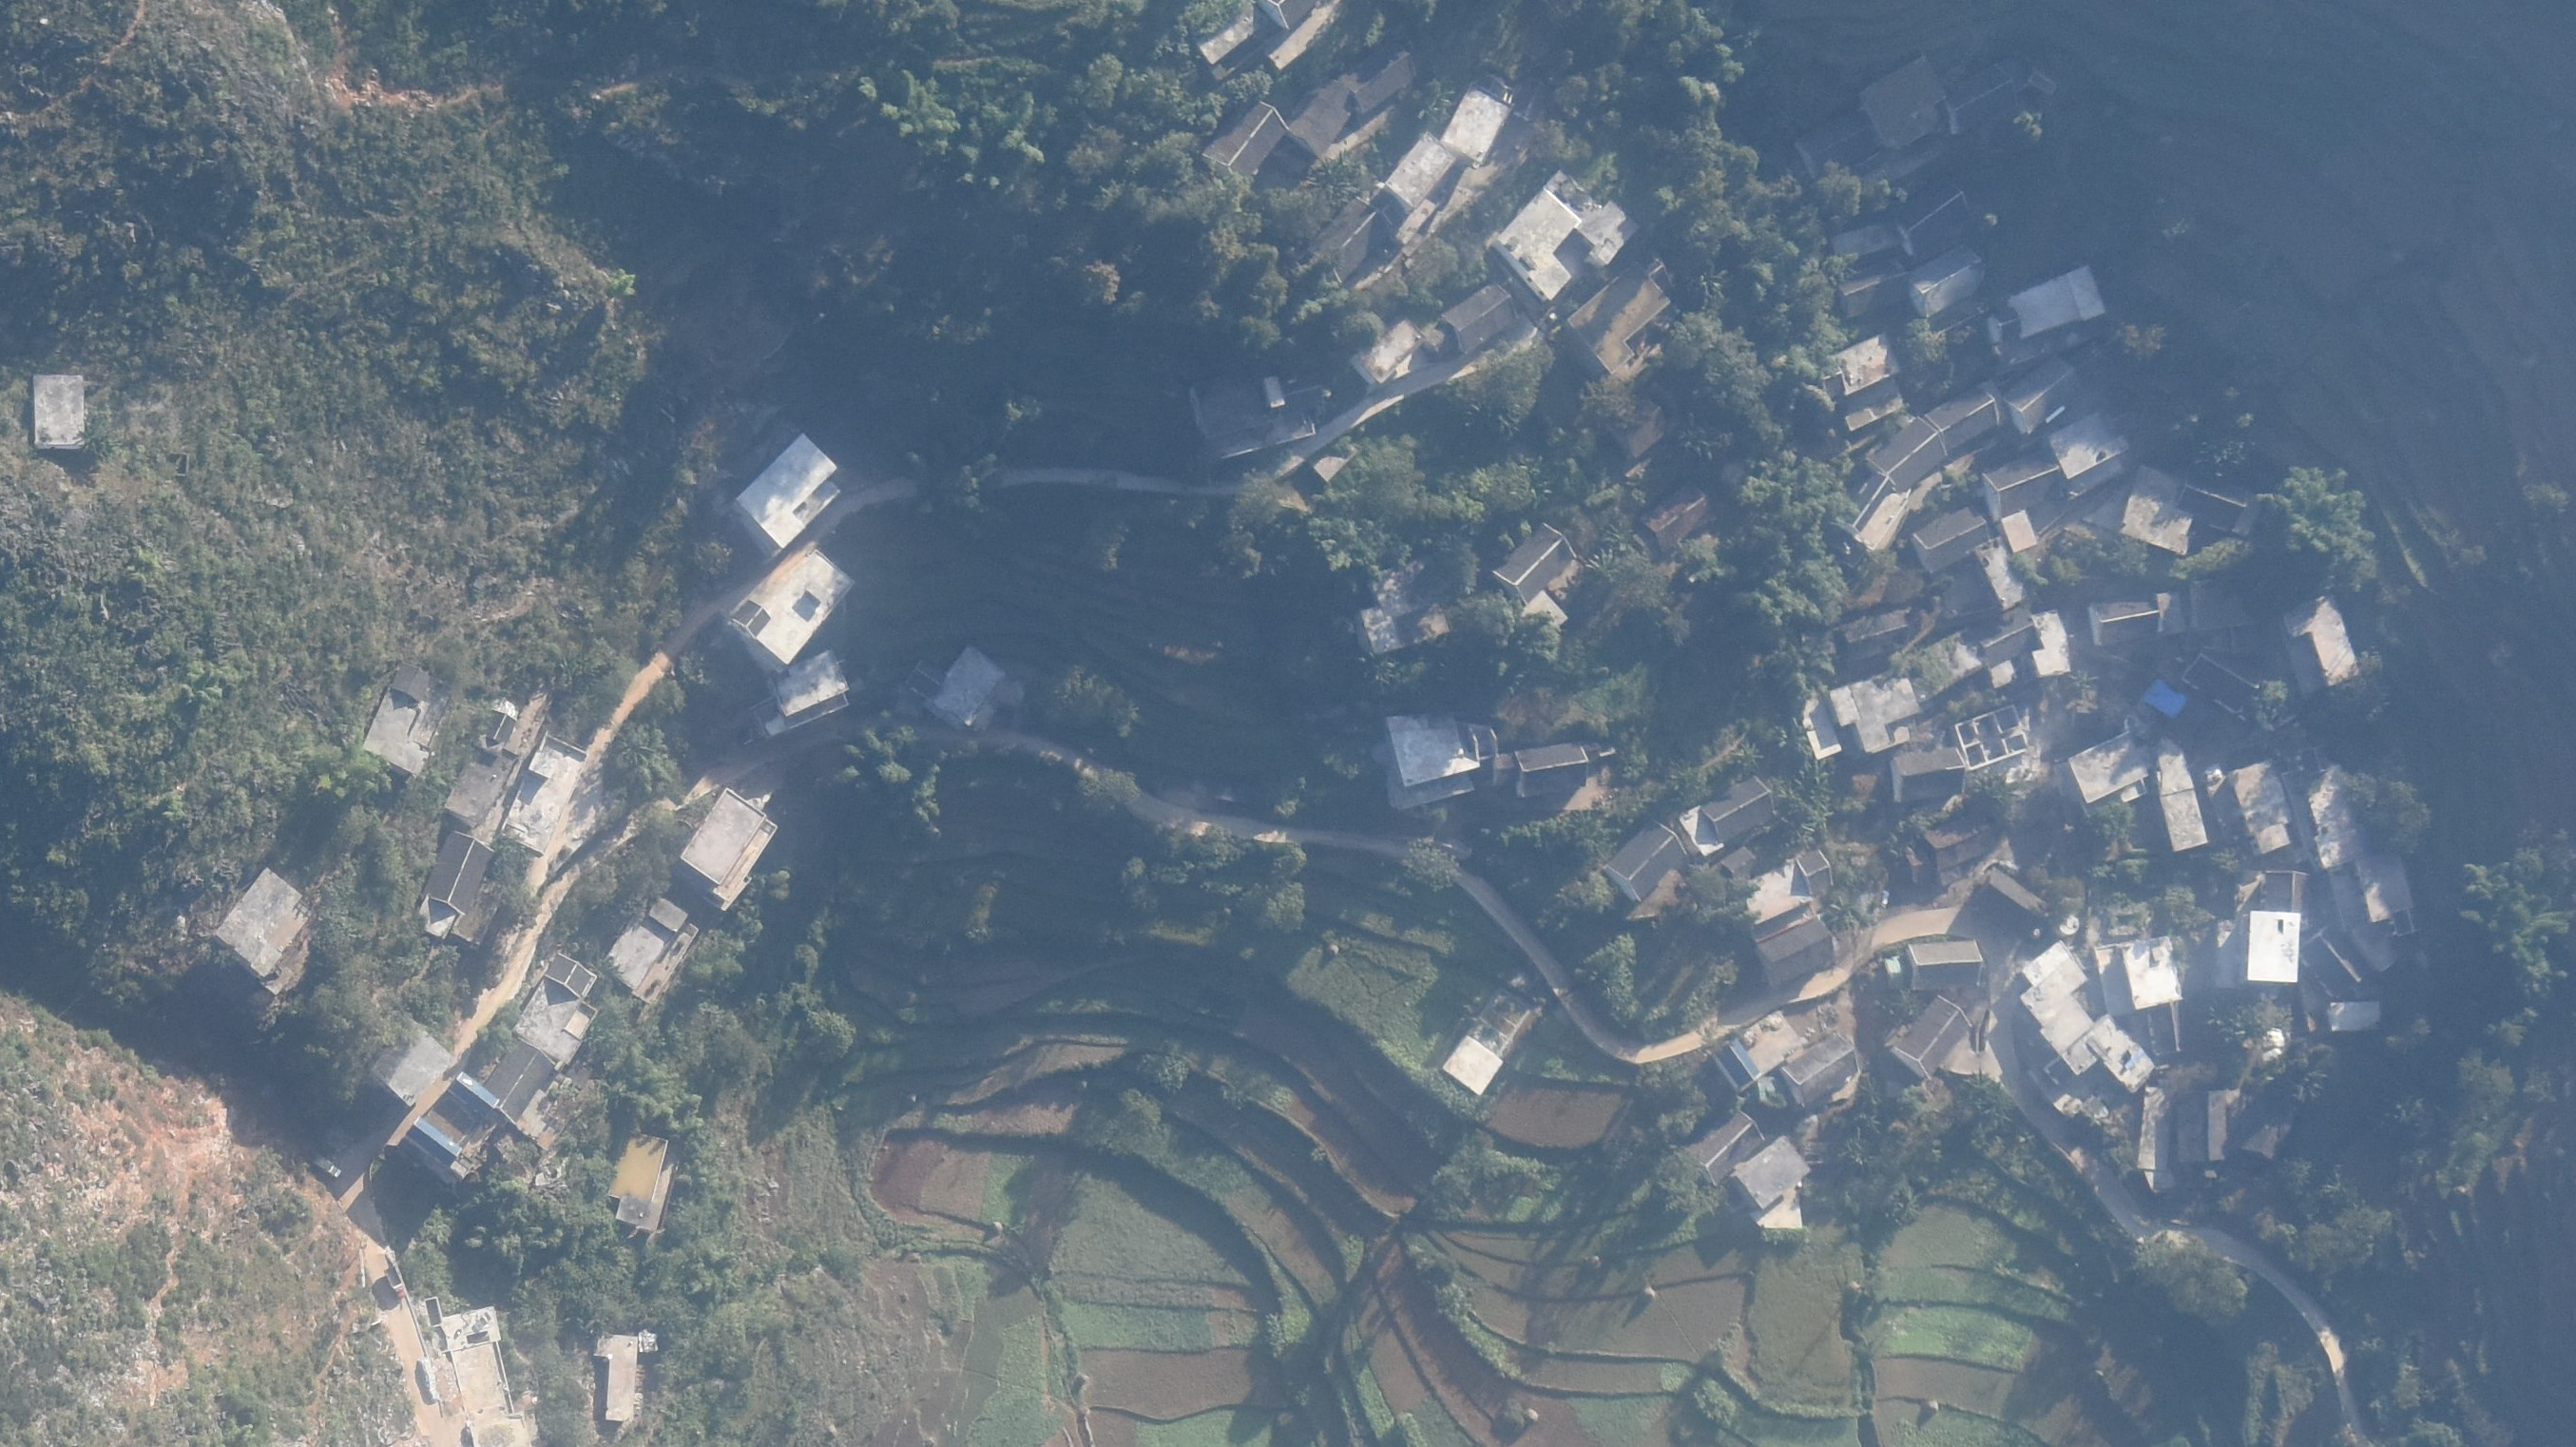building: (2020, 941, 2157, 1093), (1494, 169, 1640, 305), (2069, 712, 2207, 854), (727, 539, 866, 668), (422, 1302, 525, 1446), (1193, 357, 1315, 459), (214, 867, 312, 994), (680, 787, 777, 913), (1565, 260, 1670, 376), (735, 436, 837, 552), (736, 652, 866, 741), (1387, 710, 1498, 810), (502, 725, 586, 855), (603, 898, 698, 1006), (362, 666, 455, 776), (2285, 744, 2364, 869), (1989, 262, 2105, 346), (511, 955, 596, 1066), (2048, 405, 2140, 496), (447, 706, 517, 824), (905, 642, 1004, 725), (1359, 570, 1451, 659), (1858, 55, 1944, 148), (1307, 197, 1397, 282), (2279, 594, 2362, 687), (1832, 666, 1921, 751), (1736, 1134, 1810, 1231), (1202, 102, 1288, 183), (1496, 522, 1576, 609), (369, 1025, 456, 1105), (2093, 936, 2179, 1017), (1604, 821, 1685, 901), (2123, 464, 2195, 553), (1793, 109, 1882, 181), (1900, 627, 1985, 703), (609, 1130, 673, 1229), (483, 1034, 554, 1122), (1895, 995, 1970, 1078), (2228, 758, 2291, 852), (1939, 61, 2017, 136), (1864, 416, 1945, 489), (2006, 357, 2080, 433), (1907, 247, 1986, 318), (1382, 130, 1456, 205), (425, 833, 493, 913), (1753, 912, 1834, 979), (1814, 333, 1899, 396), (1702, 773, 1776, 847), (1285, 77, 1356, 152), (1445, 83, 1509, 165), (1781, 1034, 1860, 1102), (1984, 452, 2060, 521), (1913, 507, 1990, 574), (1340, 45, 1418, 112), (1444, 283, 1515, 357), (1832, 256, 1915, 318), (2183, 650, 2264, 714), (2355, 852, 2414, 938), (1918, 815, 2006, 871), (1923, 387, 2000, 451), (1898, 183, 1970, 251), (1698, 1112, 1764, 1184), (1954, 705, 2027, 770), (2301, 927, 2368, 996), (1830, 608, 1915, 661), (1604, 394, 1669, 460), (1641, 486, 1705, 552), (1515, 742, 1587, 798), (1440, 1040, 1507, 1100), (1363, 319, 1422, 385), (1907, 939, 1983, 990), (2246, 911, 2298, 984), (592, 1333, 636, 1420), (2180, 473, 2246, 530), (29, 376, 83, 447), (2031, 604, 2082, 679), (1892, 747, 1964, 800), (1976, 535, 2028, 608), (2180, 1090, 2230, 1163), (2087, 594, 2162, 642), (1975, 608, 2036, 662), (2137, 1084, 2172, 1169), (1829, 223, 1900, 265), (404, 1113, 462, 1165), (1797, 695, 1839, 761), (2265, 870, 2315, 921), (447, 1073, 500, 1120), (1716, 1041, 1759, 1090), (2150, 999, 2186, 1053), (1311, 440, 1355, 480), (1797, 847, 1834, 895), (2327, 1001, 2383, 1032), (2000, 508, 2036, 554), (1719, 847, 1760, 880)
prefabricated-house: (2141, 678, 2183, 720)
vehicle: (315, 1150, 344, 1181)
well: (2058, 912, 2080, 935)
